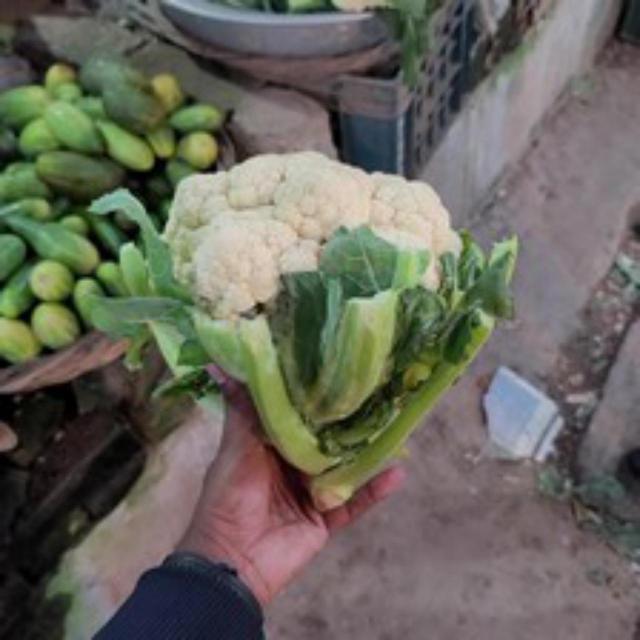cauliflower: (143, 134, 476, 400)
